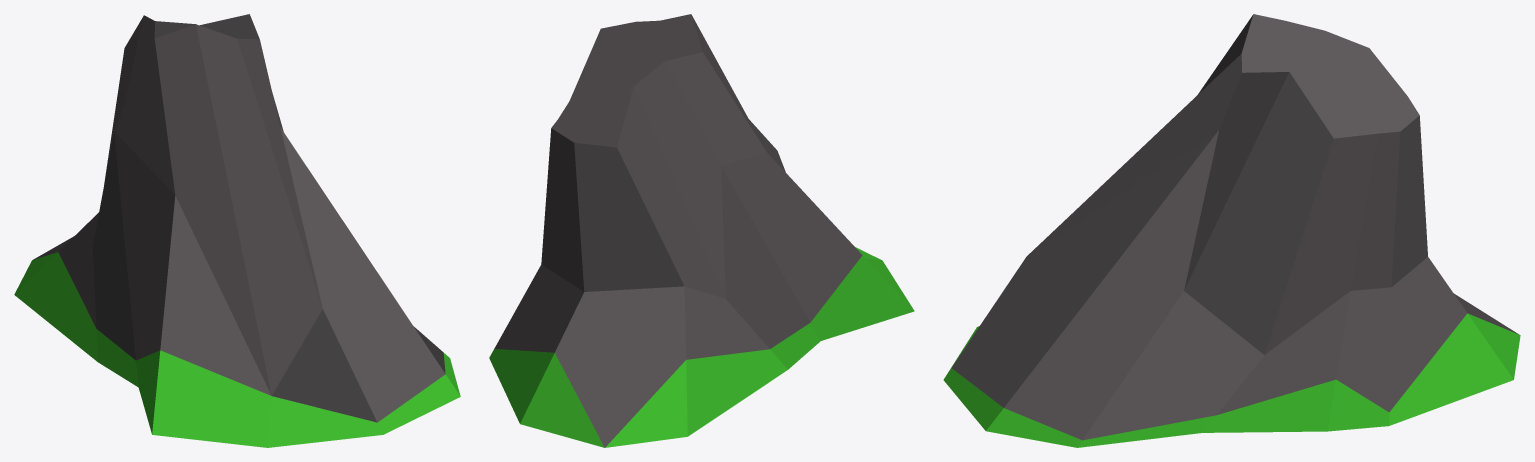
The model's file is spike2.fbx.
3 renders of one model, left to right at view 1: azimuth 30°, elevation 25°; view 2: azimuth 150°, elevation 25°; view 3: azimuth 270°, elevation 25°, orthographic. The views are drawn at different scales.
Visible parts, largest first — view 1: Circle.006; view 2: Circle.006; view 3: Circle.006.
Part boxes in pixels (x1,y1,x2,y2): Circle.006: (14, 14, 460, 447); Circle.006: (489, 14, 914, 447); Circle.006: (943, 14, 1520, 447).
Bounding box in the file's own units: 1054 × 1056 × 1612.
